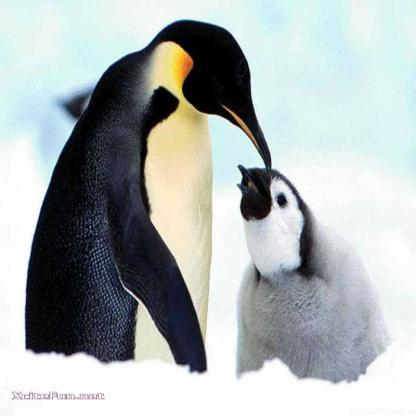Penguin: (25, 9, 282, 386), (224, 155, 408, 394)
